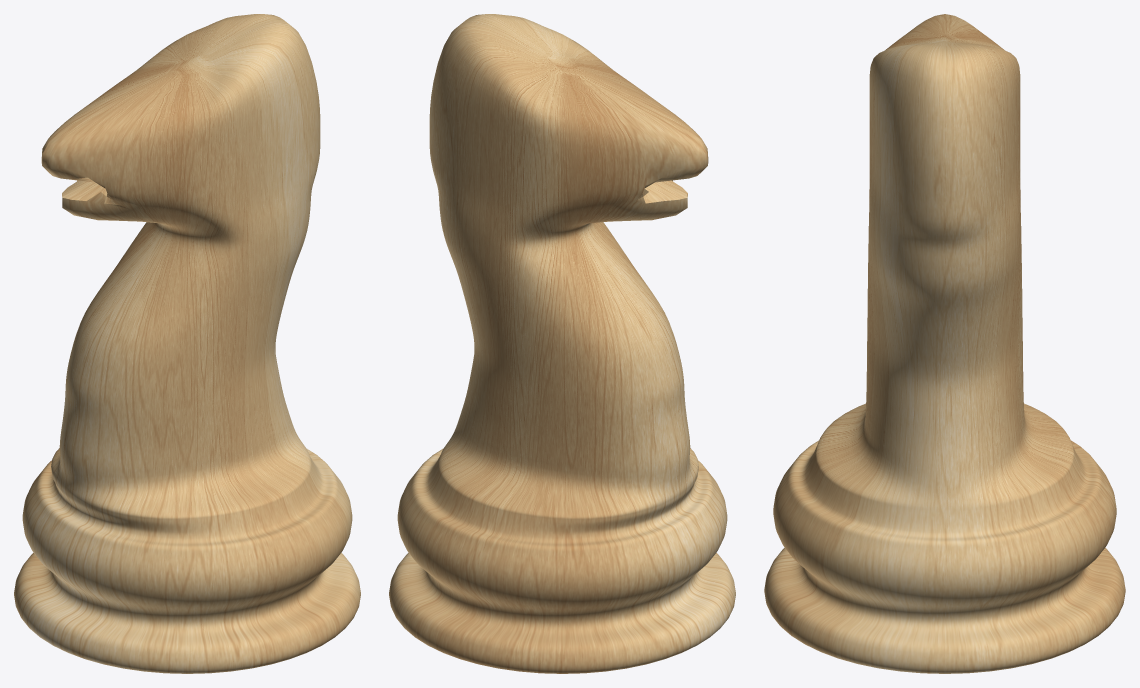
Rendered from knight.gltf.
3 renders of one model, left to right at view 1: azimuth 30°, elevation 25°; view 2: azimuth 150°, elevation 25°; view 3: azimuth 270°, elevation 25°, orthographic. The views are drawn at different scales.
Parts seen in each view (by area): view 1: mesh01; view 2: mesh01; view 3: mesh01.
Part boxes in pixels (x1=…): mesh01: x1=14, y1=14, x2=360, y2=673; mesh01: x1=389, y1=14, x2=735, y2=673; mesh01: x1=764, y1=14, x2=1125, y2=673.
Size of the model in its own units: 11.28 by 20.35 by 11.28.
1 material, 1 textured.
